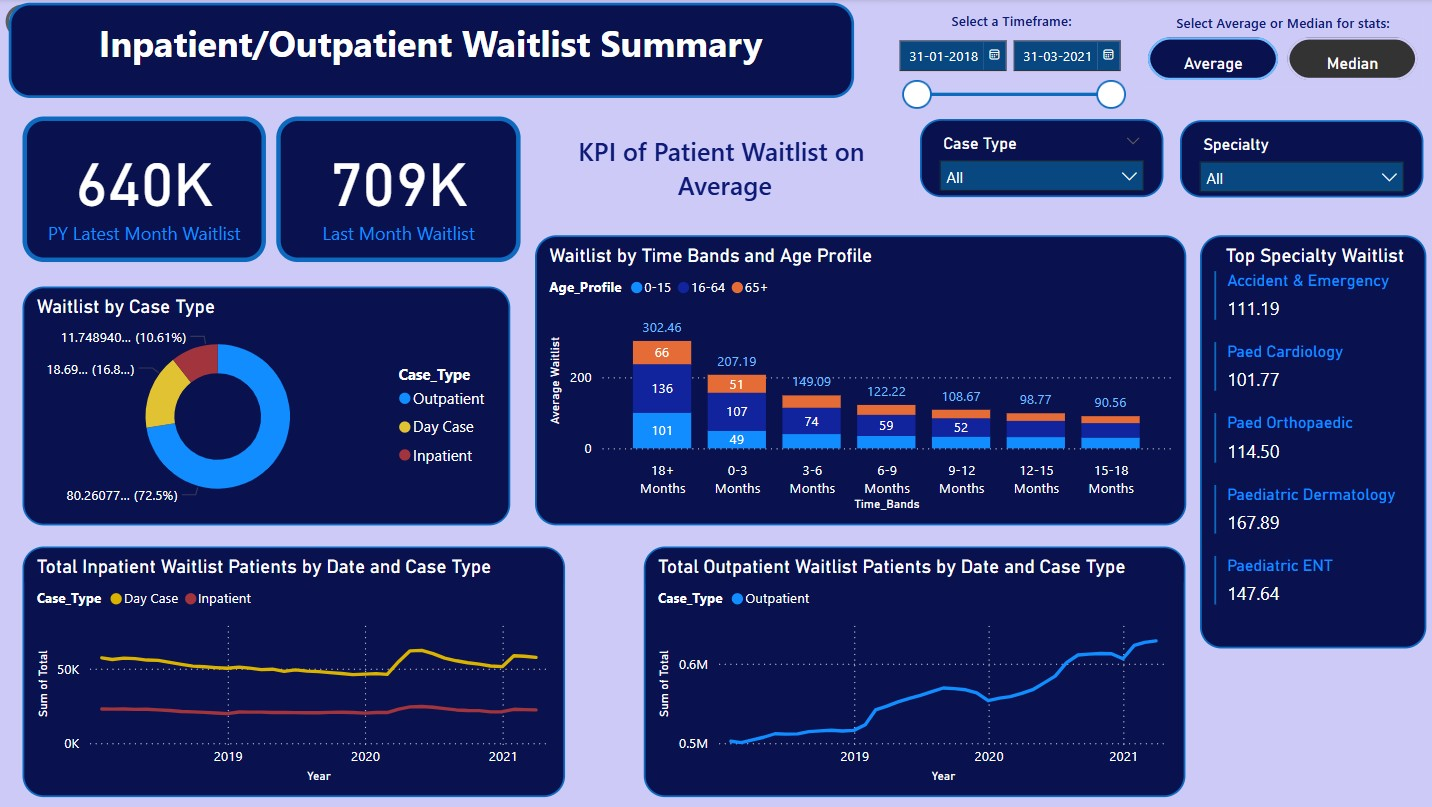

Layout of this report page (visuals, bound fields, positions):
{"tool":"powerbi","page":{"name":"Inpatient/Outpatient Waitlist Summary","canvas":[1280,720],"ordinal":0},"visuals":[{"type":"actionButton","box":[0,0,100,40],"z":0},{"type":"columnChart","title":"Waitlist by Time Bands and Age Profile","fields":{"Y":["All_Data.Average Waitlist"],"Category":["All_Data.Time_Bands"],"Series":["All_Data.Age_Profile"]},"box":[476.4,210.2,579.7,258.7],"z":1000},{"type":"card","fields":{"Values":["All_Data.Last Month Waitlist"]},"box":[246.3,104.5,217.7,129.4],"z":2000},{"type":"card","fields":{"Values":["All_Data.PY Latest Month Waitlist"]},"box":[19.9,104.5,216.4,129.4],"z":3000},{"type":"donutChart","title":"Waitlist by Case Type","fields":{"Category":["All_Data.Case_Type"],"Y":["All_Data.Average Waitlist"]},"box":[19.9,256.3,434.1,212.7],"z":4000},{"type":"advancedSlicerVisual","title":"Select Average or Median for stats:","fields":{"Values":["Calculation Method.Type"]},"box":[1017.6,13.7,250,64.7],"z":5000},{"type":"lineChart","title":"Total Outpatient Waitlist Patients by Date and Case Type","fields":{"Y":["Sum(All_Data.Total)"],"Category":["All_Data.Archive_Date.Variation.Date Hierarchy.Year","All_Data.Archive_Date.Variation.Date Hierarchy.Quarter","All_Data.Archive_Date.Variation.Date Hierarchy.Month","All_Data.Archive_Date.Variation.Date Hierarchy.Day"],"Series":["All_Data.Case_Type"]},"box":[573.7,488,482.4,223.2],"z":6000},{"type":"lineChart","title":"Total Inpatient Waitlist Patients by Date and Case Type","fields":{"Y":["Sum(All_Data.Total)"],"Category":["All_Data.Archive_Date.Variation.Date Hierarchy.Year","All_Data.Archive_Date.Variation.Date Hierarchy.Quarter","All_Data.Archive_Date.Variation.Date Hierarchy.Month","All_Data.Archive_Date.Variation.Date Hierarchy.Day"],"Series":["All_Data.Case_Type"]},"box":[20.3,488,483.5,223.2],"z":7000},{"type":"multiRowCard","title":"Top  Specialty Waitlist","fields":{"Values":["All_Data.Specialty","All_Data.Avg/Med Waitlist"]},"box":[1066.4,197,201.5,368.5],"z":8000},{"type":"slicer","fields":{"Values":["All_Data.Case_Type"]},"box":[819.8,107,216.4,69.7],"z":9000},{"type":"slicer","fields":{"Values":["All_Data.Specialty"]},"box":[1051.1,108.2,216.4,68.4],"z":10000},{"type":"textbox","box":[7.8,3.3,752.5,84.6],"z":11000},{"type":"slicer","title":"Select a Timeframe:","fields":{"Values":["All_Data.Archive_Date"]},"box":[780,3.7,237.6,103.2],"z":12000},{"type":"card","fields":{"Values":["All_Data.Stats_Message"]},"box":[476.4,99.5,338.4,98.3],"z":13000}]}

Visuals, with their boxes in screenshot pixels (x1, y1, x2, y2), scaled from the page's 1280x720 canvas onto the 1432x807 screenshot:
actionButton: 0, 0, 112, 45
"Waitlist by Time Bands and Age Profile" columnChart: 533, 236, 1182, 526
card - All_Data.Last Month Waitlist: 276, 117, 519, 262
card - All_Data.PY Latest Month Waitlist: 22, 117, 264, 262
"Waitlist by Case Type" donutChart: 22, 287, 508, 526
"Select Average or Median for stats:" advancedSlicerVisual: 1138, 15, 1418, 88
"Total Outpatient Waitlist Patients by Date and Case Type" lineChart: 642, 547, 1182, 797
"Total Inpatient Waitlist Patients by Date and Case Type" lineChart: 23, 547, 564, 797
"Top  Specialty Waitlist" multiRowCard: 1193, 221, 1418, 634
slicer - All_Data.Case_Type: 917, 120, 1159, 198
slicer - All_Data.Specialty: 1176, 121, 1418, 198
textbox: 9, 4, 851, 99
"Select a Timeframe:" slicer: 873, 4, 1138, 120
card - All_Data.Stats_Message: 533, 112, 912, 222
